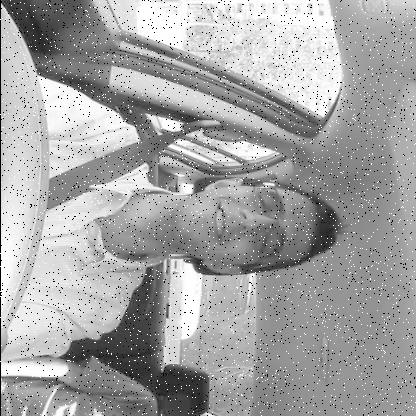seatbelt: (7, 114, 361, 284)
